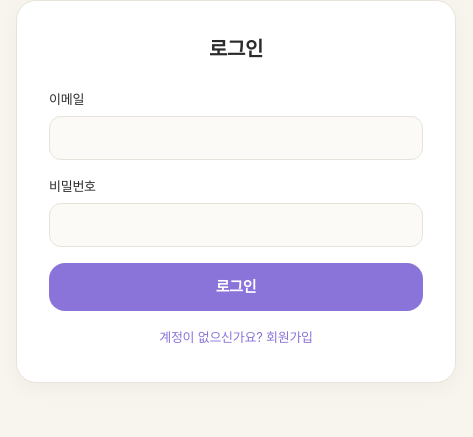
Scenario: AuthForm › switches to signup mode, submits, and returns to login mode with a success message
The image size is (473, 437).
Click the button "계정이 없으신가요? 회원가입" at point(236, 338), box [49, 327, 423, 348]
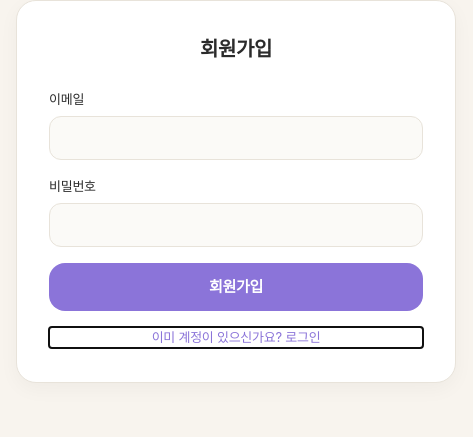
expect the heading "회원가입" is shown: met, box [200, 37, 272, 61]
Type "user@example.com" into the field labelled "이메일" at point(236, 138), box [49, 116, 423, 160]
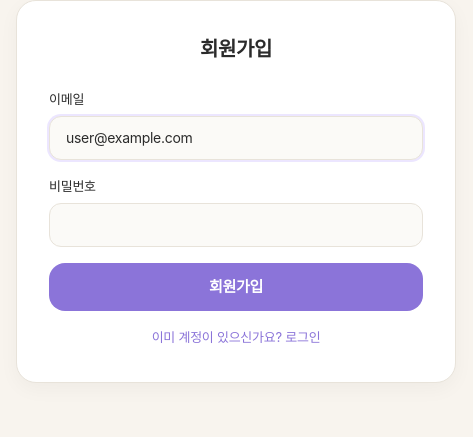
Type "password123" into the password field labelled "비밀번호" at point(236, 225), box [49, 203, 423, 247]
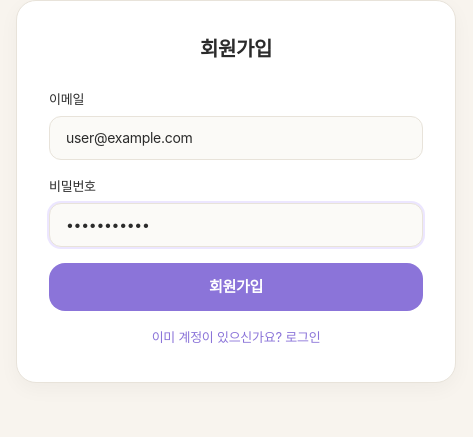
Click the button "회원가입" at point(236, 287), box [49, 263, 423, 311]
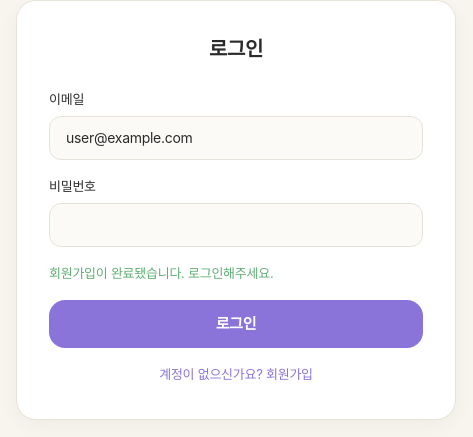
expect the text "회원가입이 완료됐습니다. 로그인해주세요." is shown: met, box [49, 265, 273, 281]
expect the heading "로그인" is shown: met, box [209, 37, 263, 61]
